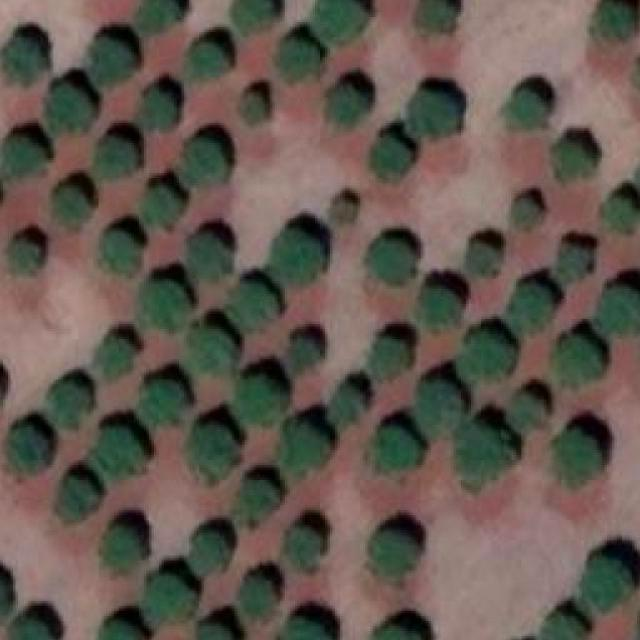Tree: (456, 428, 514, 493), (272, 228, 325, 287), (88, 428, 147, 481), (556, 430, 602, 490), (144, 576, 199, 626), (460, 332, 513, 382), (404, 89, 458, 138), (45, 85, 94, 139), (280, 425, 328, 480), (582, 558, 630, 612), (415, 382, 461, 438), (312, 0, 371, 42), (226, 281, 277, 329), (141, 284, 189, 332), (181, 138, 227, 188), (370, 530, 416, 579), (88, 37, 134, 86), (141, 379, 189, 425), (186, 327, 235, 372), (511, 282, 552, 335), (191, 428, 232, 481), (239, 379, 285, 425), (186, 233, 232, 279), (597, 288, 640, 337), (2, 37, 45, 86), (558, 337, 604, 382), (375, 428, 421, 473), (97, 525, 141, 571), (369, 241, 413, 285), (5, 428, 48, 473), (324, 85, 367, 129), (92, 138, 136, 181), (50, 382, 91, 428), (58, 478, 99, 523), (189, 530, 230, 574), (418, 289, 463, 329), (3, 138, 48, 178), (279, 40, 322, 81), (369, 138, 413, 178), (144, 186, 182, 230), (104, 231, 139, 277), (371, 337, 408, 380), (237, 480, 274, 523), (508, 90, 546, 131), (139, 90, 177, 131), (189, 42, 230, 80), (98, 339, 136, 379), (136, 0, 179, 35), (287, 528, 320, 572), (556, 140, 594, 178), (327, 387, 362, 428), (234, 0, 275, 35), (242, 575, 274, 619), (508, 392, 546, 429), (597, 0, 632, 40), (415, 0, 456, 32), (284, 339, 317, 377), (54, 188, 88, 224), (558, 244, 586, 282), (465, 244, 498, 276), (540, 616, 584, 640), (8, 238, 38, 272), (606, 198, 639, 228), (8, 618, 53, 640), (282, 621, 330, 640), (99, 623, 147, 640), (242, 90, 264, 126), (370, 626, 426, 640), (197, 623, 234, 640), (516, 198, 538, 226), (335, 197, 355, 220)
